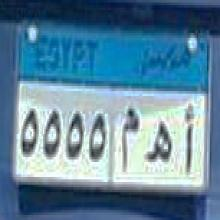5: (42, 100, 64, 163), (18, 104, 40, 159), (88, 107, 107, 167), (64, 111, 86, 160)
alif: (182, 105, 197, 176)
haa: (145, 118, 172, 170)
meem: (120, 98, 140, 170)
